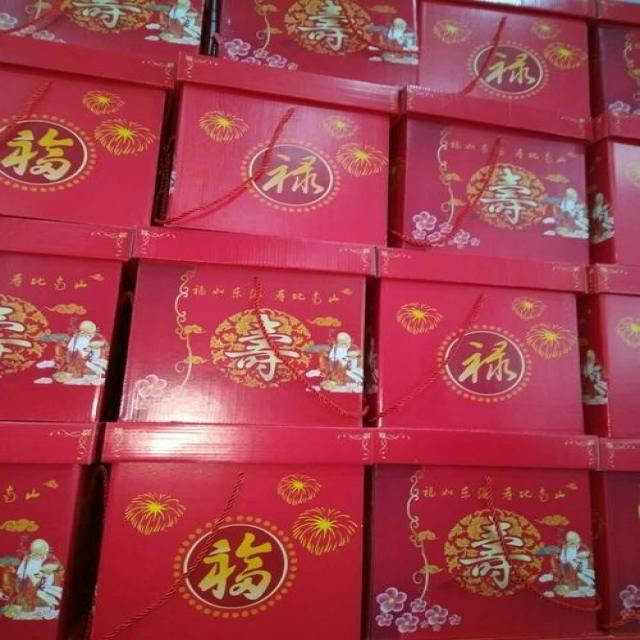box: (90, 427, 367, 640), (118, 225, 378, 430), (367, 427, 604, 640), (165, 48, 402, 246), (364, 246, 594, 434), (402, 83, 595, 262), (0, 34, 179, 226), (1, 420, 101, 640), (419, 2, 595, 115), (206, 0, 419, 86), (3, 2, 220, 59), (582, 260, 639, 435), (595, 437, 640, 639), (593, 108, 640, 270), (593, 23, 640, 118)
